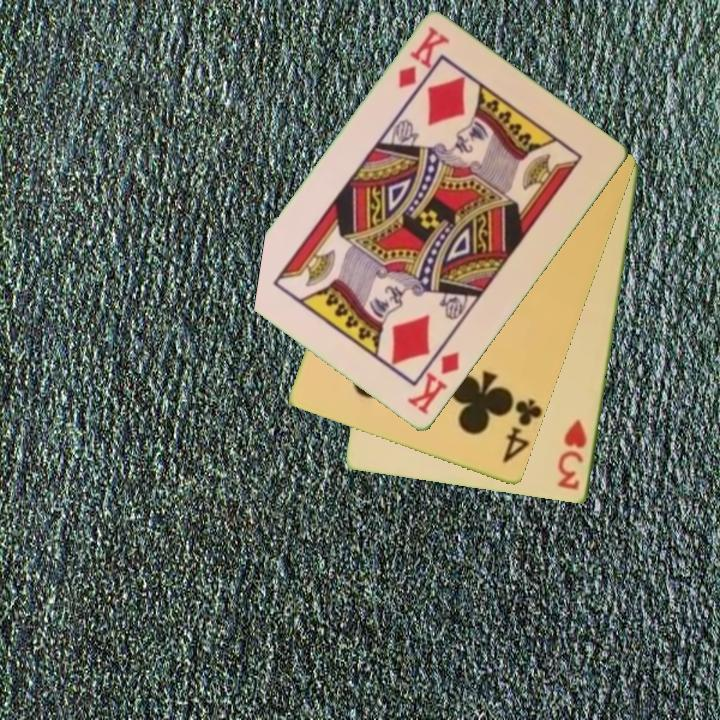3h: (554, 416, 591, 494)
4c: (499, 396, 544, 466)
Kd: (403, 348, 463, 419), (394, 23, 453, 92)
